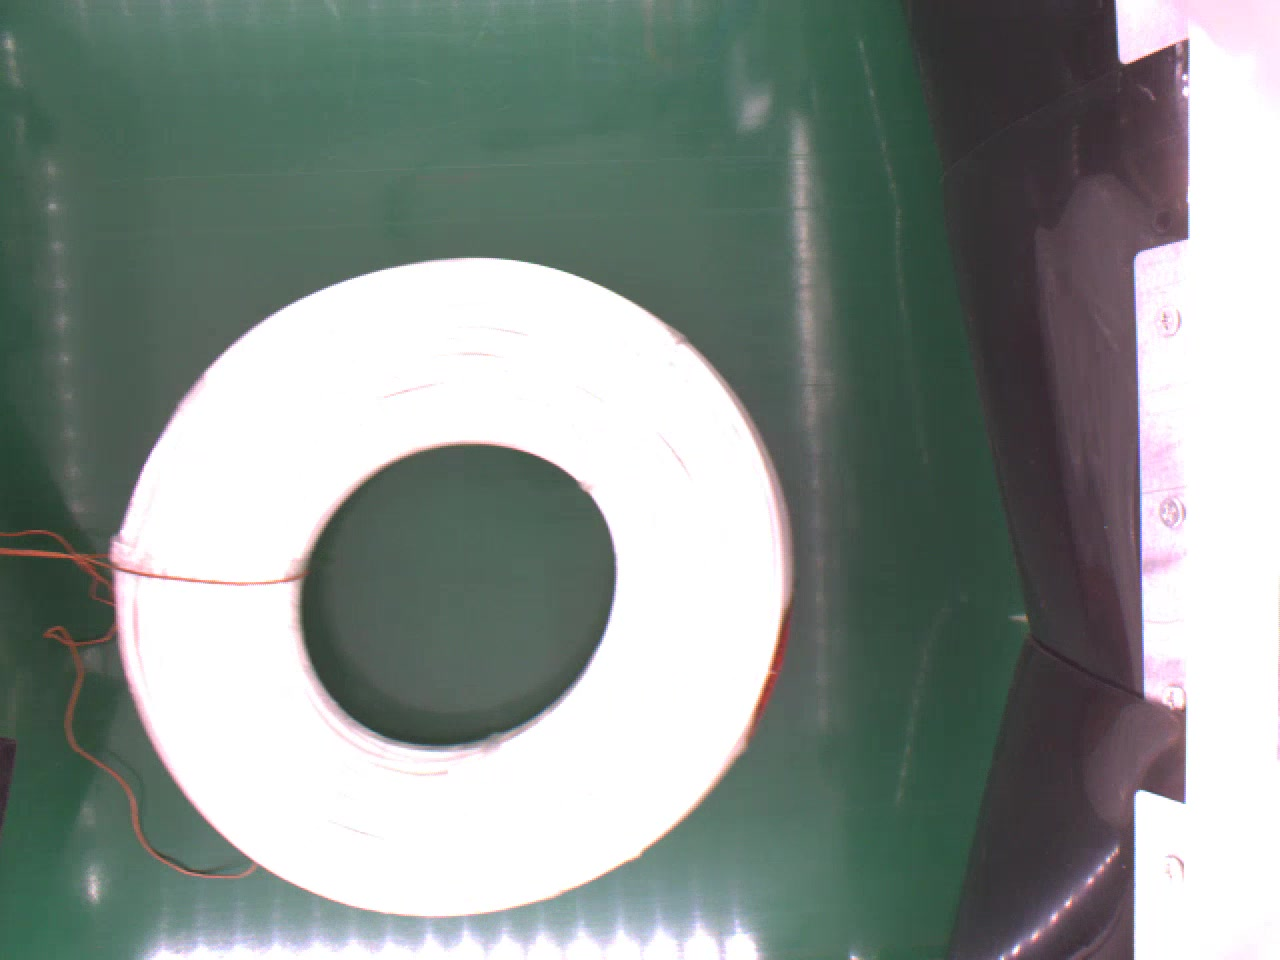white: (113, 252, 787, 921)
